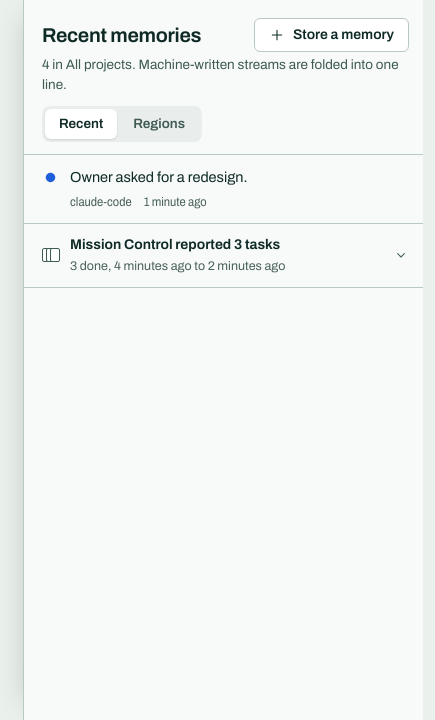
Test: MapSheet: Recent › lists recent memories with streams folded, and opens a folded line
This screenshot has width=435, height=720.
expect the heading "Recent memories" is shown: met, box [42,24,201,46]
Click the button "Mission Control reported 3 tasks". click: (175, 244)
box: [24,224,423,287]
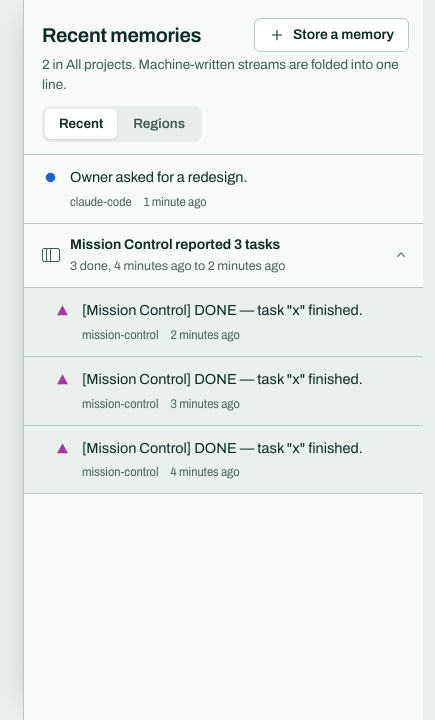
expect the button "Mission Control reported 3 tasks" is expanded: met, box [24,224,423,287]
expect the number of buttons "[Mission Control]" is 3: met, box [24,288,423,357]; [24,357,423,426]; [24,426,423,493]
